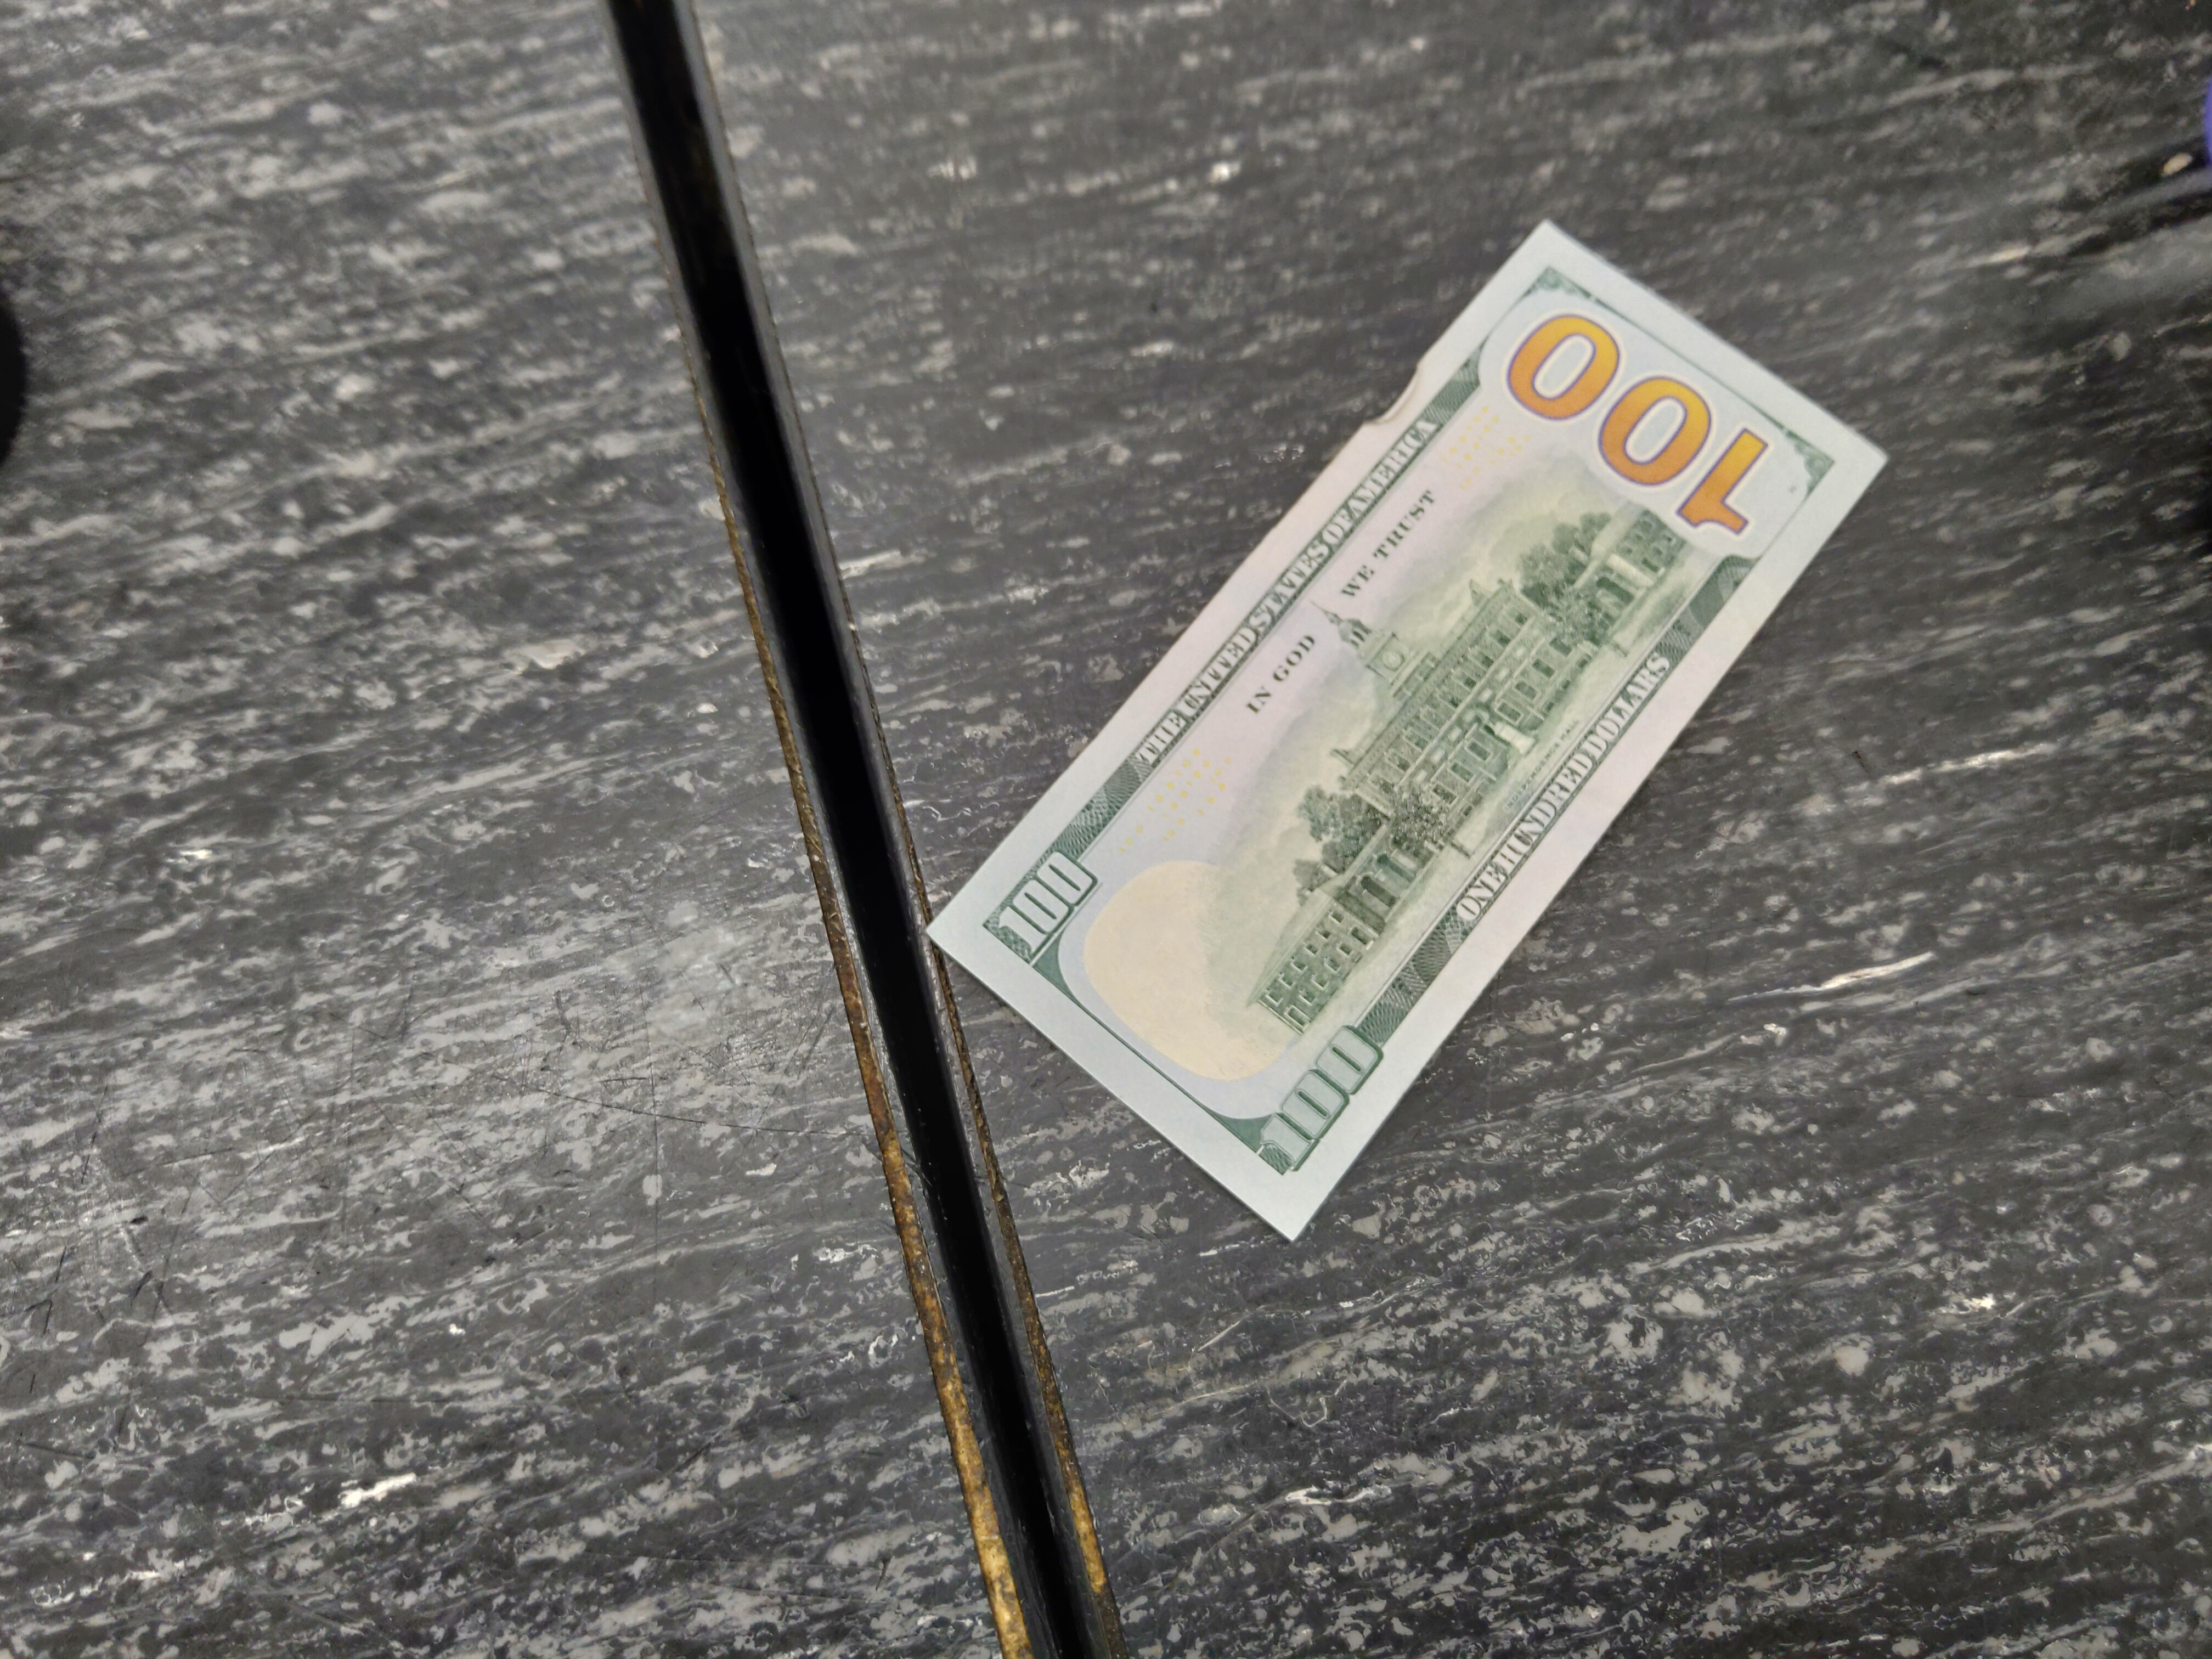HundredBill: (928, 218, 1888, 1246)
